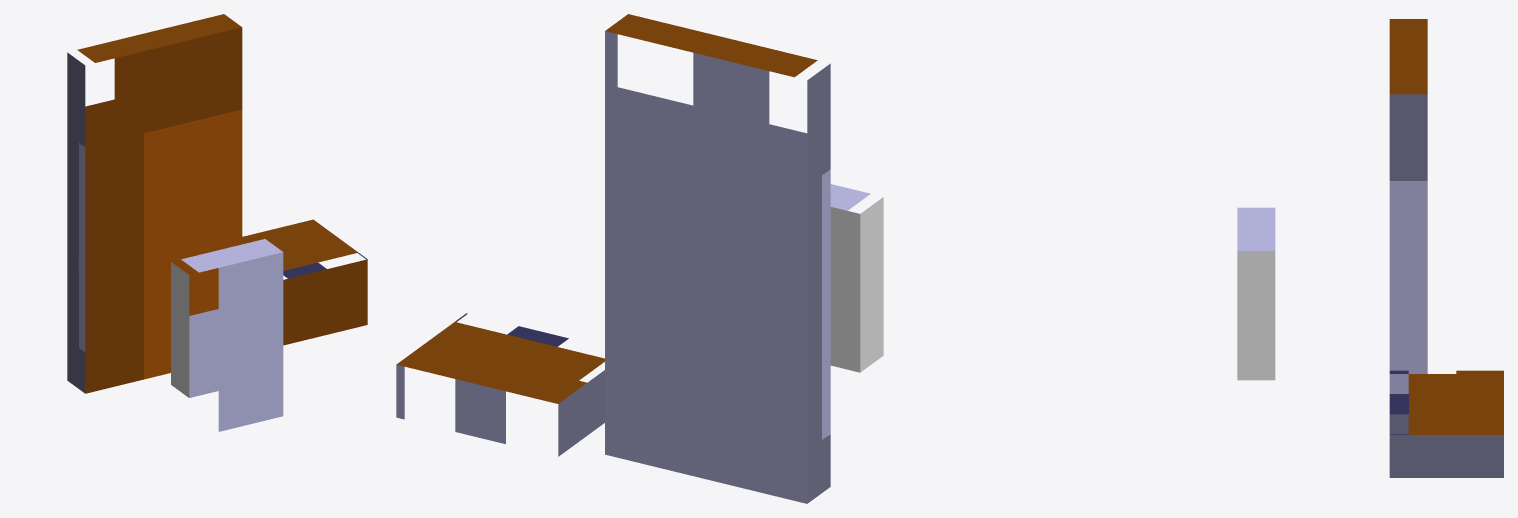
File: hitek_tile_037.gltf
3 renders of one model, left to right at view 1: azimuth 30°, elevation 25°; view 2: azimuth 150°, elevation 25°; view 3: azimuth 270°, elevation 25°, orthographic. The views are drawn at different scales.
Visible parts, largest first — view 1: hitek_tile_037; view 2: hitek_tile_037; view 3: hitek_tile_037.
Part boxes in pixels (box(x1,y1,x2,y2)): hitek_tile_037: box(67, 14, 367, 431); hitek_tile_037: box(396, 14, 883, 503); hitek_tile_037: box(1237, 19, 1503, 477).
Bounding box in the file's own units: 8.67 × 6.67 × 6.
Materials: 1 (1 with a texture image).
